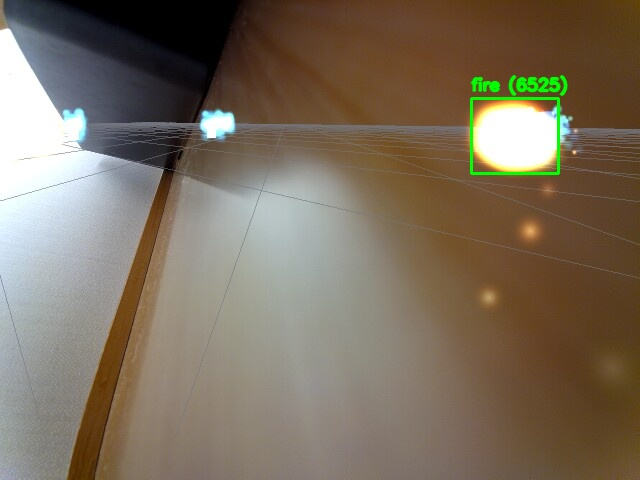fire: (471, 98, 558, 173)
